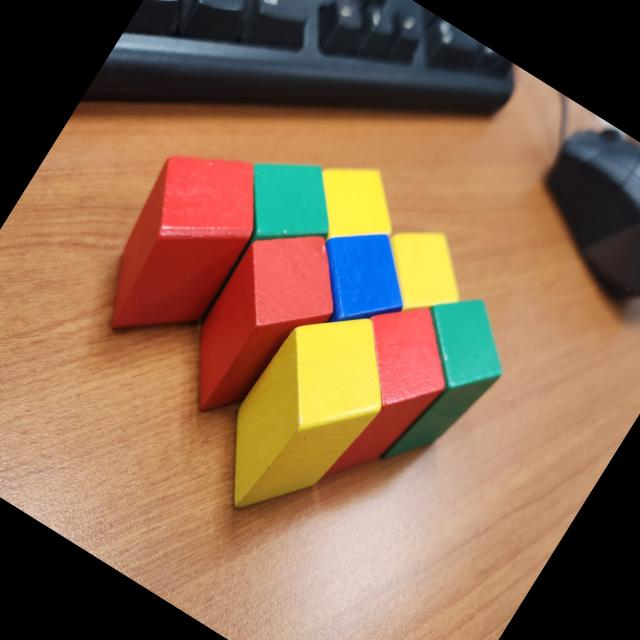blue: (284, 208, 431, 360)
green: (167, 132, 357, 354), (344, 276, 530, 492)
red: (74, 120, 285, 362), (159, 203, 364, 444), (282, 280, 478, 510)
yellow: (189, 283, 419, 547), (286, 126, 426, 274), (359, 208, 486, 334)
